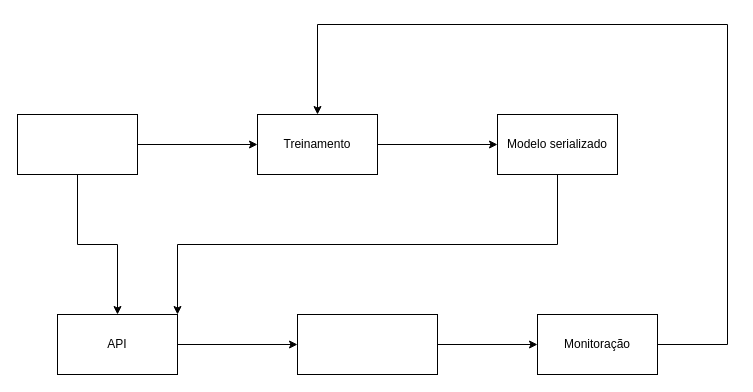
The diagram is 753 pixels wide and 392 high, and some of its shapes have lost their labels. The centre of each missing label's shape, as x and y in pixels:
GIT: pixel 77 144
Previsão/Classificação: pixel 367 344
